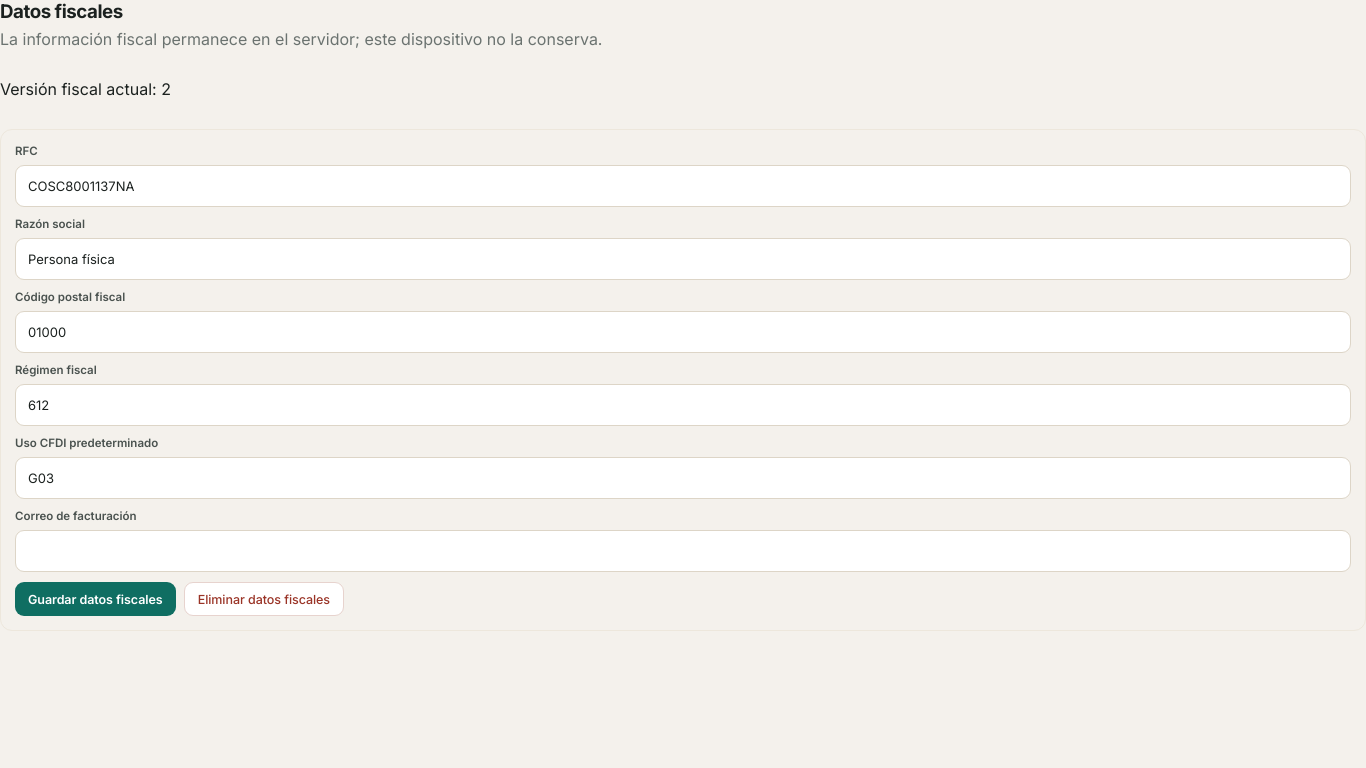
Scenario: FiscalDataPanel › requires explicit deletion confirmation and explains the recent-MFA server rejection
Expected: the field showing "COSC8001137NA" is shown, [15, 165, 1351, 207]
Click the button "Eliminar datos fiscales".
click(264, 599)  # box [184, 582, 344, 616]
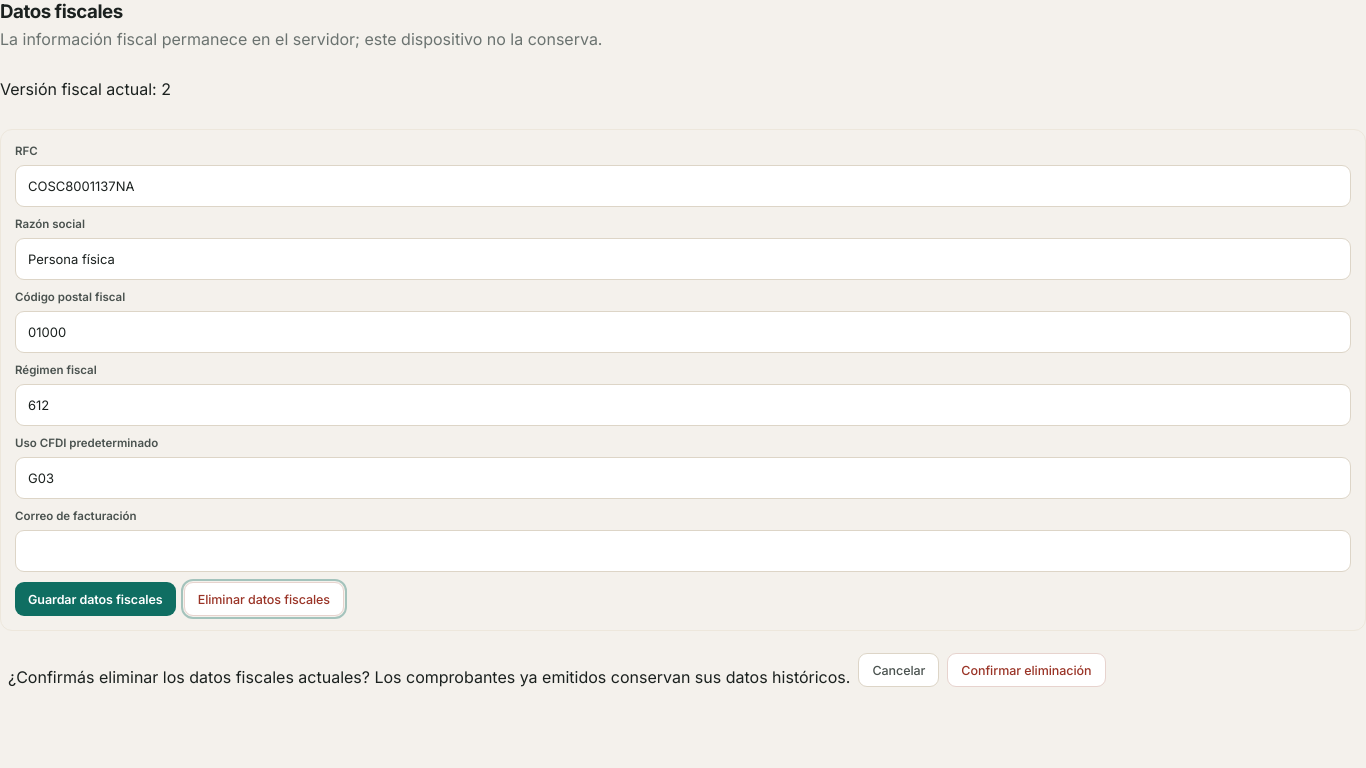
Click the button "Confirmar eliminación".
click(1026, 670)  # box [947, 653, 1106, 687]
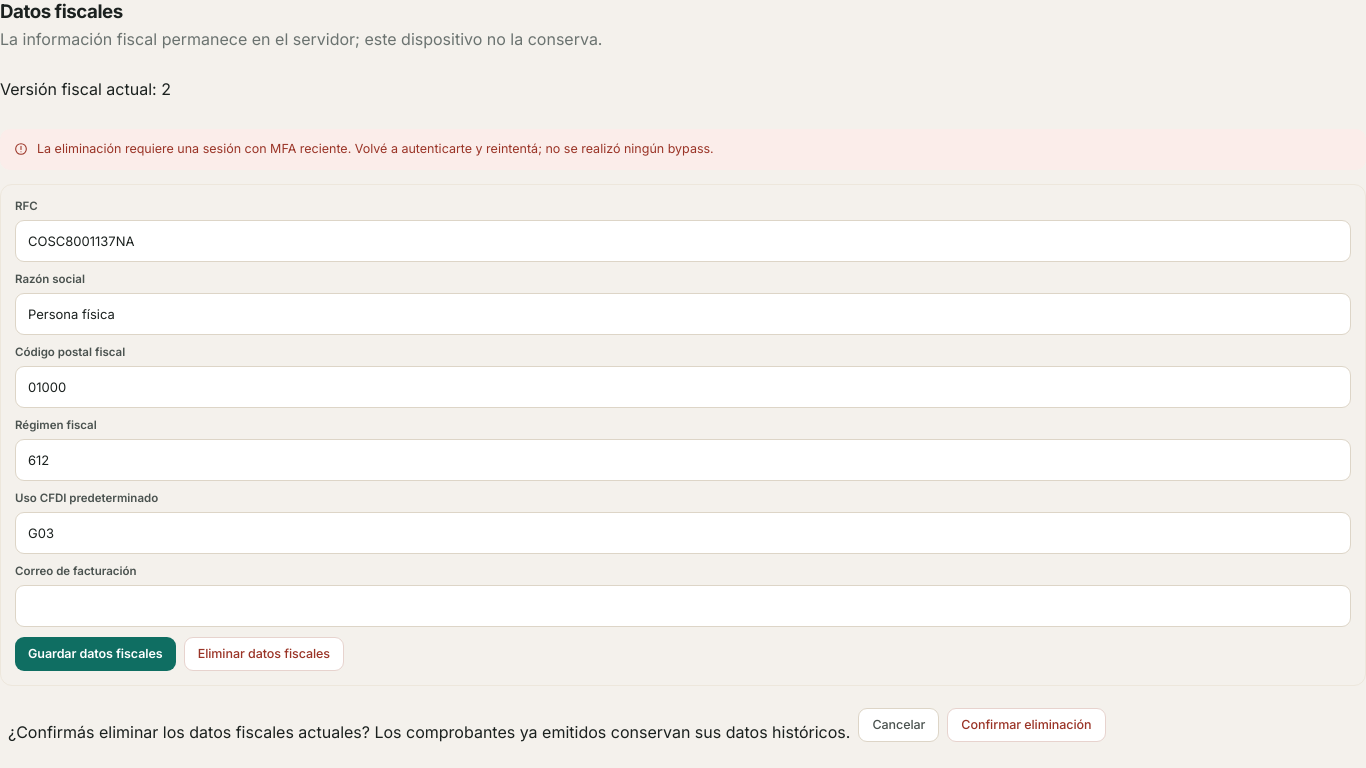
Expected: the text "MFA reciente" is shown, [37, 141, 714, 156]
